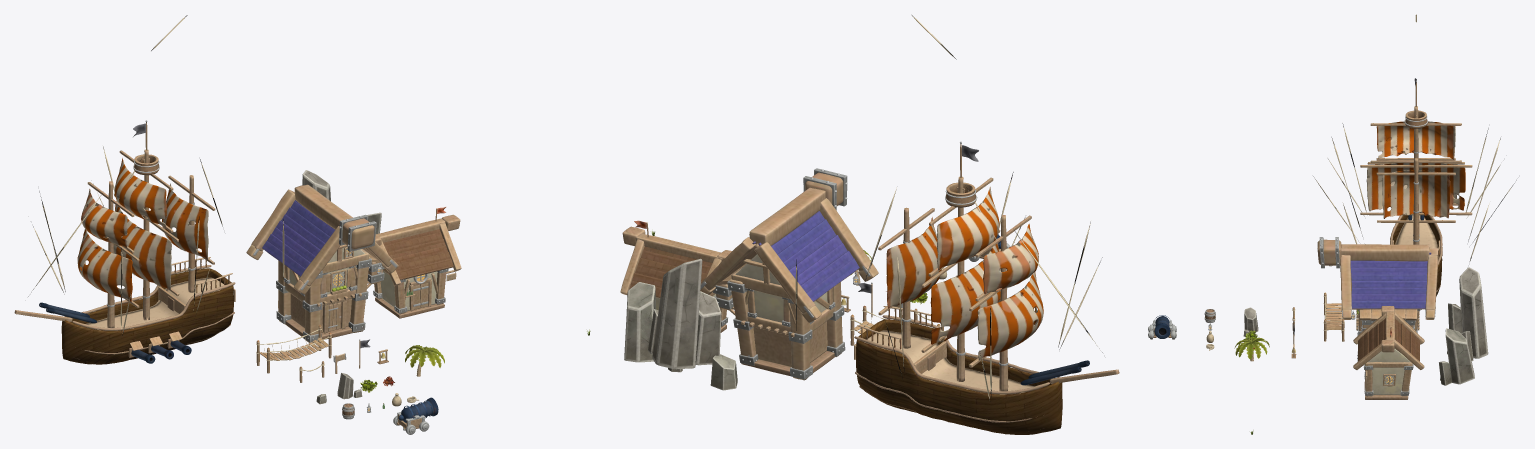
File: pirate-assets.glb
The picture shows the model from 3 angles, left to right: view 1: azimuth 30°, elevation 25°; view 2: azimuth 150°, elevation 25°; view 3: azimuth 270°, elevation 25°; orthographic projection. The views are drawn at different scales.
Visible parts, largest first — view 1: PirateShip_mesh, Tavern_mesh, Shack_mesh, RopeBridge_mesh, Cannon_mesh, CliffRocks_mesh, PalmTree_mesh; view 2: PirateShip_mesh, Tavern_mesh, CliffRocks_mesh, Shack_mesh; view 3: PirateShip_mesh, Tavern_mesh, Shack_mesh, CliffRocks_mesh, RopeBridge_mesh, Cannon_mesh, PalmTree_mesh.
Part boxes in pixels (box(x1,y1,x2,y2)): PirateShip_mesh: box(14, 15, 284, 364); Tavern_mesh: box(246, 184, 405, 430); Shack_mesh: box(373, 207, 461, 318); RopeBridge_mesh: box(256, 325, 331, 373); Cannon_mesh: box(393, 397, 438, 434); CliffRocks_mesh: box(302, 170, 381, 233); PalmTree_mesh: box(405, 345, 444, 376); PirateShip_mesh: box(795, 15, 1119, 434); Tavern_mesh: box(700, 168, 878, 380); CliffRocks_mesh: box(624, 258, 737, 390); Shack_mesh: box(620, 220, 731, 332); PirateShip_mesh: box(1313, 14, 1516, 309); Tavern_mesh: box(1317, 237, 1438, 361); Shack_mesh: box(1353, 306, 1424, 399); CliffRocks_mesh: box(1439, 267, 1488, 385); RopeBridge_mesh: box(1323, 292, 1344, 341); Cannon_mesh: box(1148, 315, 1176, 339); PalmTree_mesh: box(1234, 337, 1269, 361).
Bounding box in the file's own units: 32.84 × 21.48 × 24.98.
Materials: 27 (27 with a texture image).
